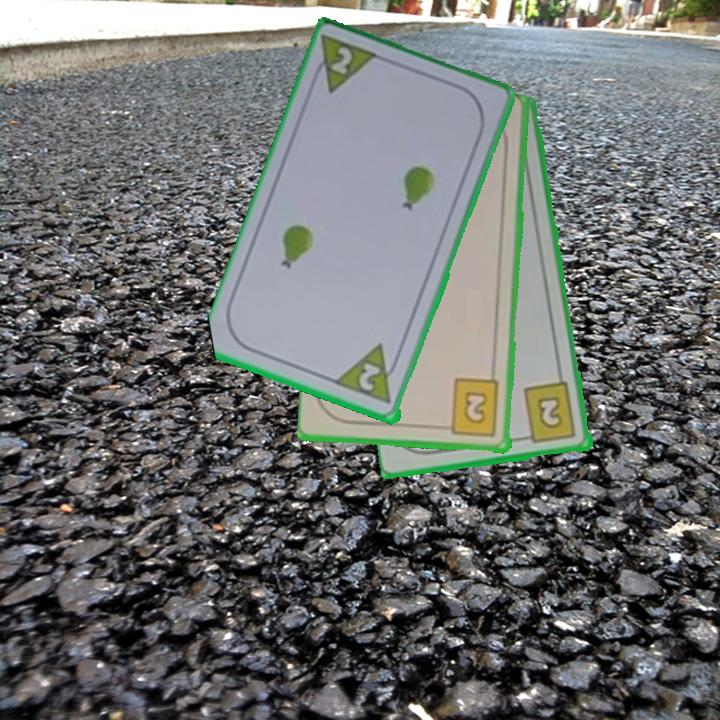2b: (518, 379, 579, 447), (439, 376, 503, 440)
2p: (355, 359, 384, 395), (327, 43, 356, 78)
